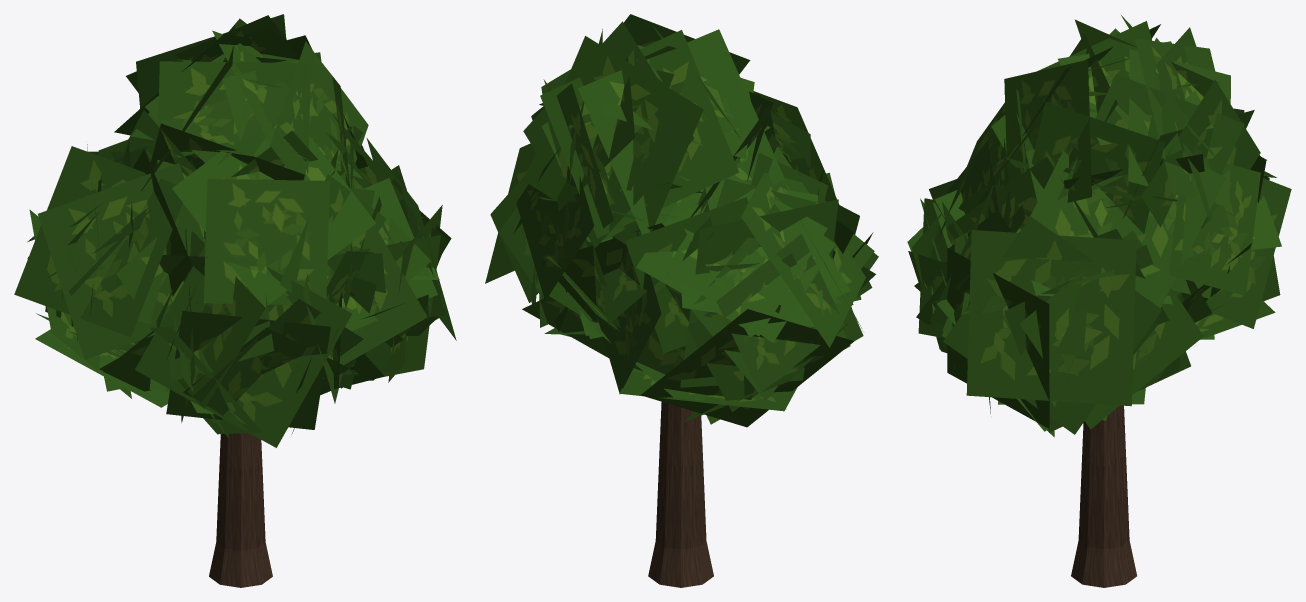
File: tree.glb
3 renders of one model, left to right at view 1: azimuth 30°, elevation 25°; view 2: azimuth 150°, elevation 25°; view 3: azimuth 270°, elevation 25°, orthographic. The views are drawn at different scales.
Visible parts, largest first — view 1: tree; view 2: tree; view 3: tree.
Boxes of the visible parts, x1,y1,x2,y2 form: tree: [14, 14, 456, 587]; tree: [485, 14, 878, 587]; tree: [907, 15, 1291, 587].
Bounding box in the file's own units: 3.34 × 4.74 × 2.97.
3 materials, 3 textured.
